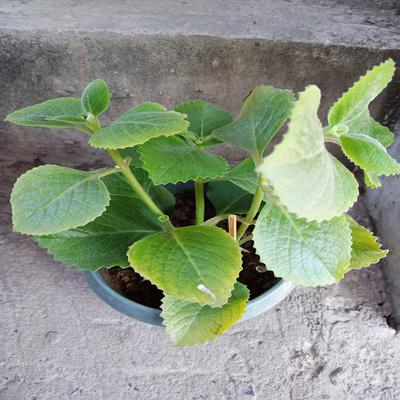Oregano: (21, 76, 384, 337)
